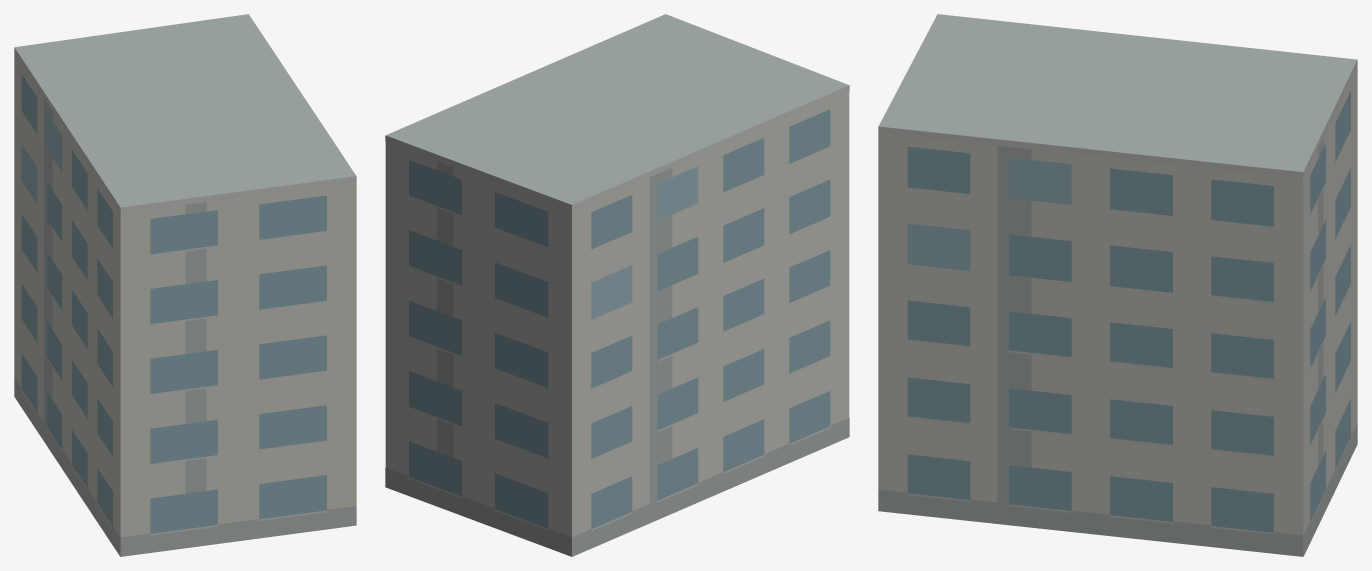
The model's file is survey-upis-33036258.glb.
3 renders of one model, left to right at view 1: azimuth 30°, elevation 25°; view 2: azimuth 150°, elevation 25°; view 3: azimuth 270°, elevation 25°, orthographic. The views are drawn at different scales.
Visible parts, largest first — view 1: survey-upis-33036258.tmp; view 2: survey-upis-33036258.tmp; view 3: survey-upis-33036258.tmp.
Boxes of the visible parts, x1,y1,x2,y2 form: survey-upis-33036258.tmp: (14,14,356,556); survey-upis-33036258.tmp: (385,14,849,556); survey-upis-33036258.tmp: (878,14,1357,556).
Bounding box in the file's own units: 12.62 × 14.3 × 16.15.
